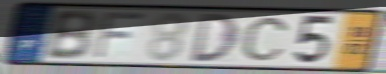5: (291, 14, 339, 67)
8: (145, 10, 192, 64)
B: (42, 9, 98, 62)
C: (240, 15, 292, 62)
D: (190, 12, 241, 64)
F: (91, 10, 148, 61)
